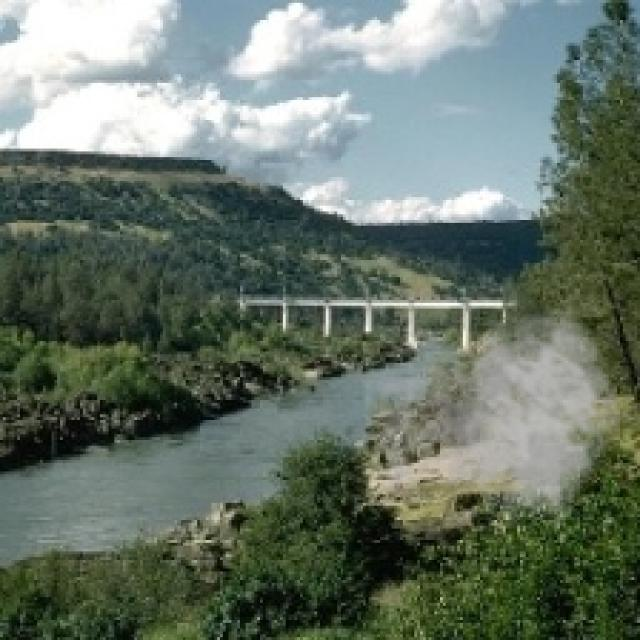smoke: (357, 300, 623, 537)
